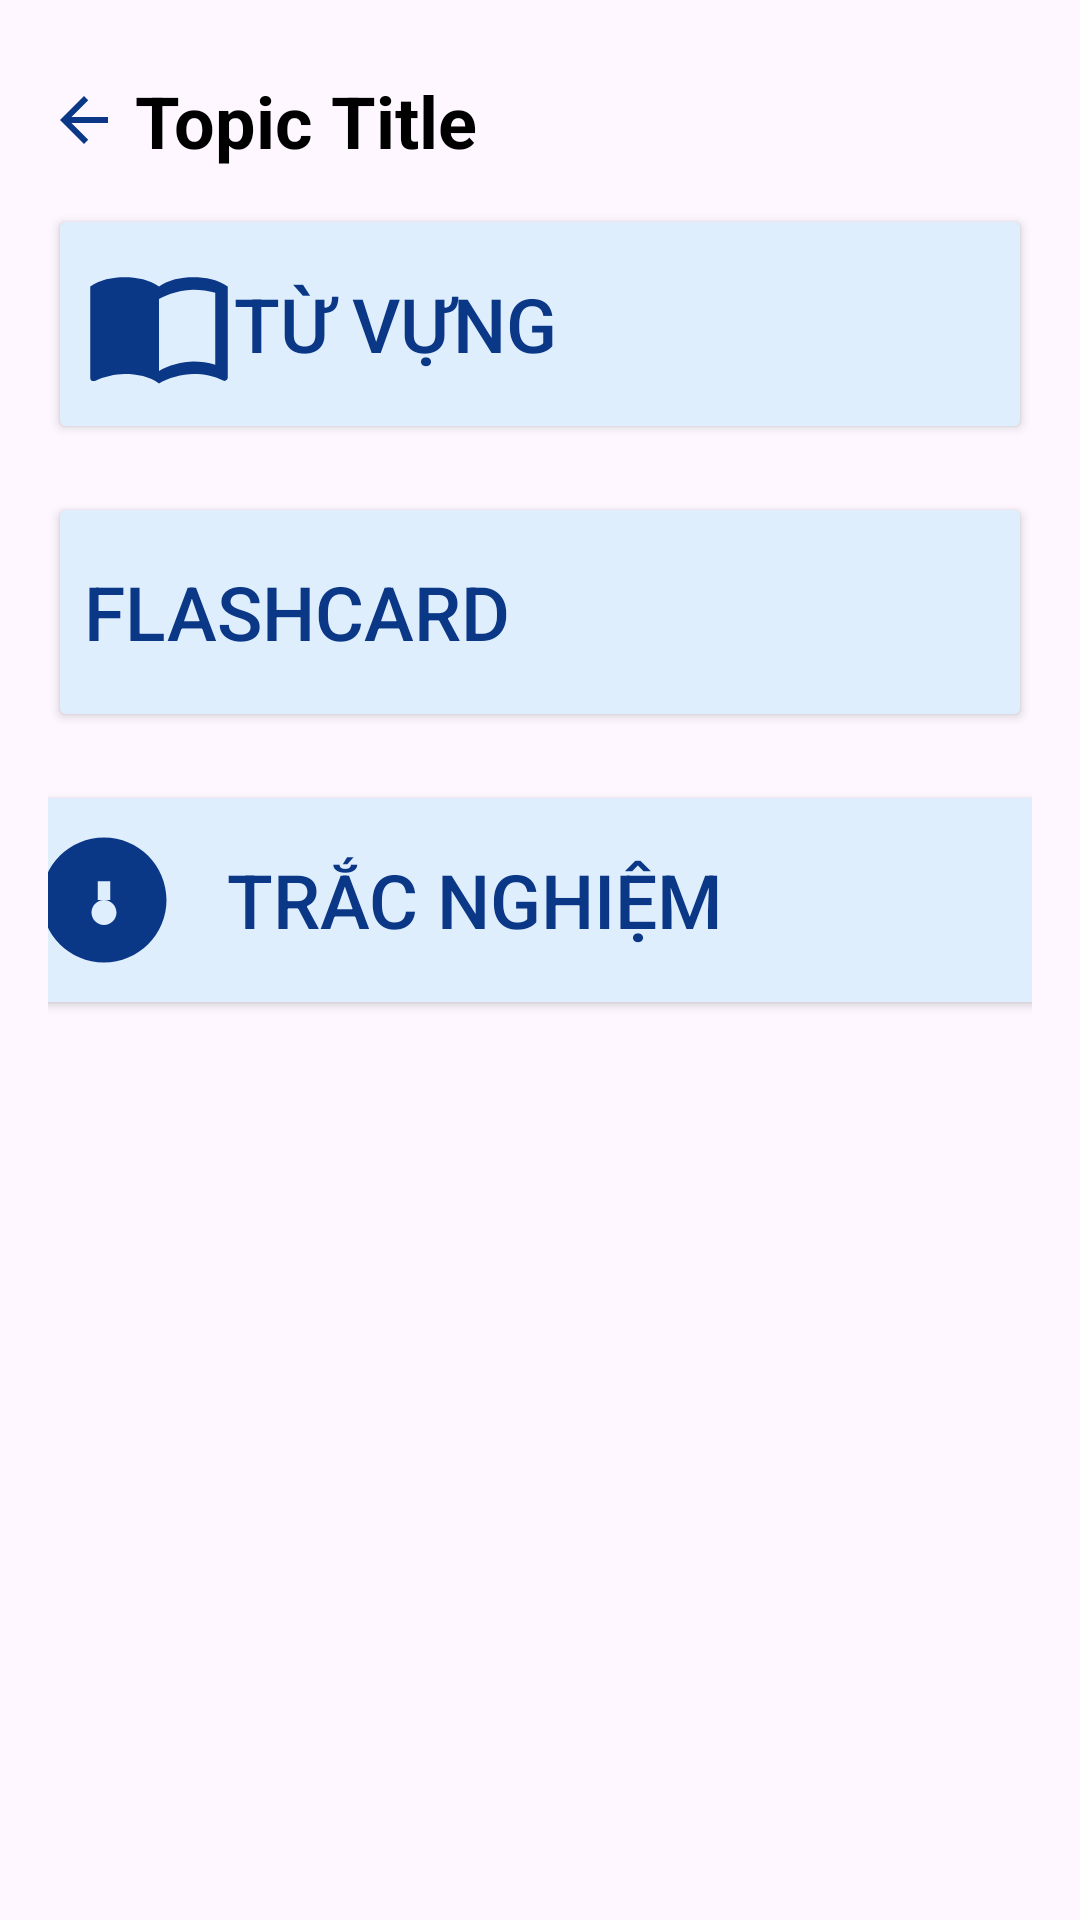

Screen size 1080 × 1920. Icon name, then its center in pixels as [x,y]:
Back: [84,120]
